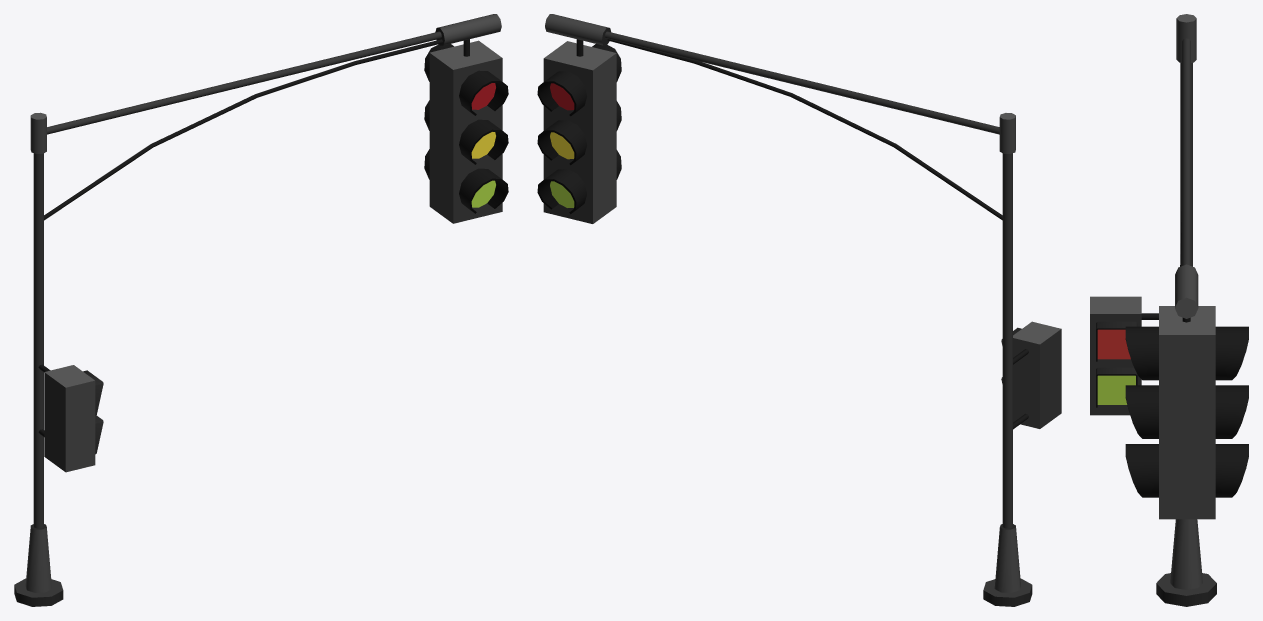
Rendered from signal_lamp.FBX.
The picture shows the model from 3 angles, left to right: view 1: azimuth 30°, elevation 25°; view 2: azimuth 150°, elevation 25°; view 3: azimuth 270°, elevation 25°; orthographic projection. The views are drawn at different scales.
Parts seen in each view (by area): view 1: signal_lamp; view 2: signal_lamp; view 3: signal_lamp.
Boxes of the visible parts, left/top/right/bottom form: signal_lamp: left=14, top=14, right=508, bottom=606; signal_lamp: left=537, top=14, right=1061, bottom=606; signal_lamp: left=1090, top=14, right=1248, bottom=606.
Bounding box in the file's own units: 286 × 273 × 68.38.
